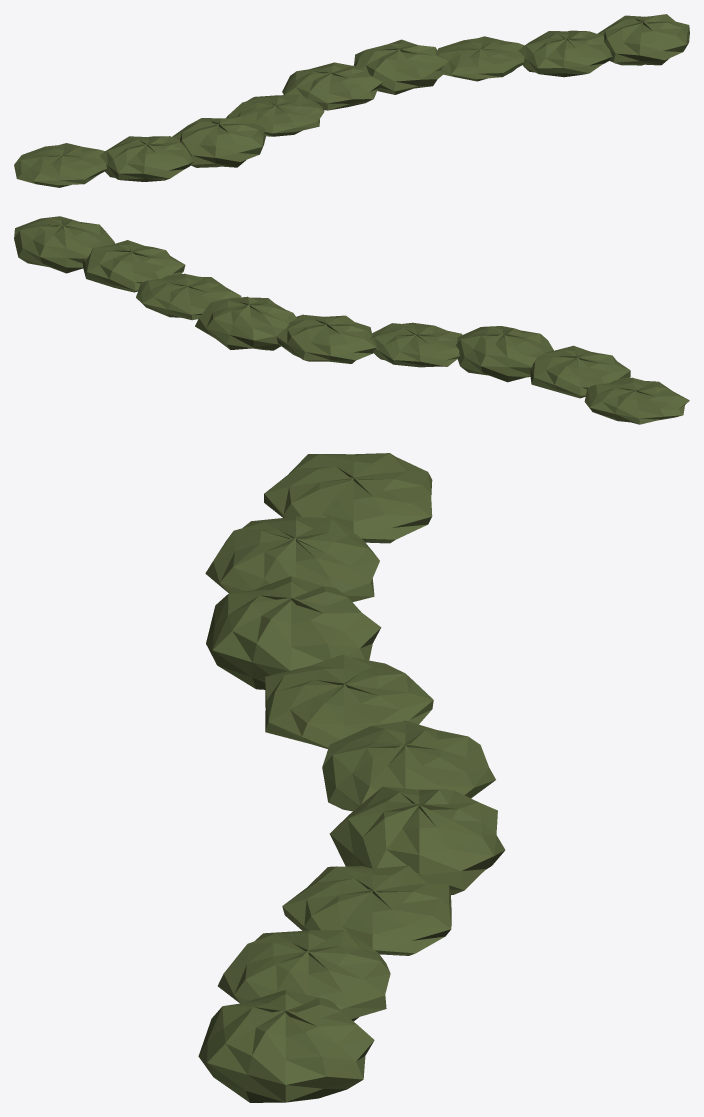
Rendered from DistantIslands.obj.
3 views of the same model, one above another, from view 1: azimuth 30°, elevation 25°; view 2: azimuth 150°, elevation 25°; view 3: azimuth 270°, elevation 25° (orthographic). The views are drawn at different scales.
Parts seen in each view (by area): view 1: grass; view 2: grass; view 3: grass.
Part boxes in pixels (x1,y1,x2,y2): grass: (14, 14, 689, 187); grass: (14, 216, 689, 424); grass: (198, 453, 505, 1102).
Bounding box in the file's own units: 177 × 9.81 × 35.86.
